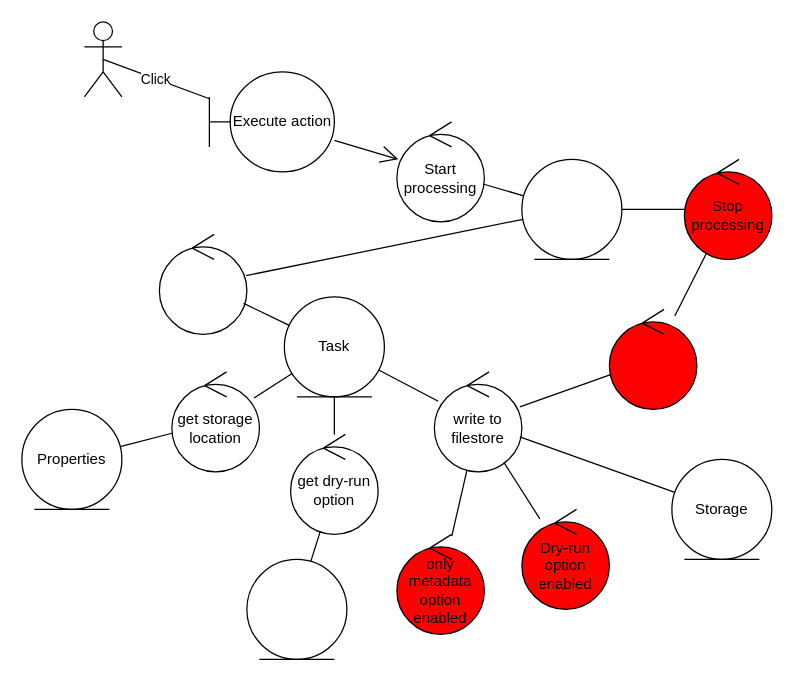
This 794x681 diagram has some shape labels left out. The shapes that lost their labels are listed below. From the top down, each one's centre as x and y in pixels, then its label:
(x=102, y=59): User
(x=571, y=208): Processor
(x=202, y=283): execute
(x=652, y=358): Service unavailable
(x=296, y=608): Options
